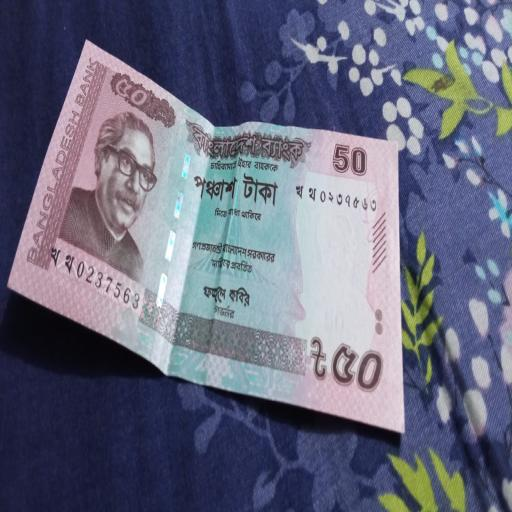50taka: (8, 42, 403, 431)
